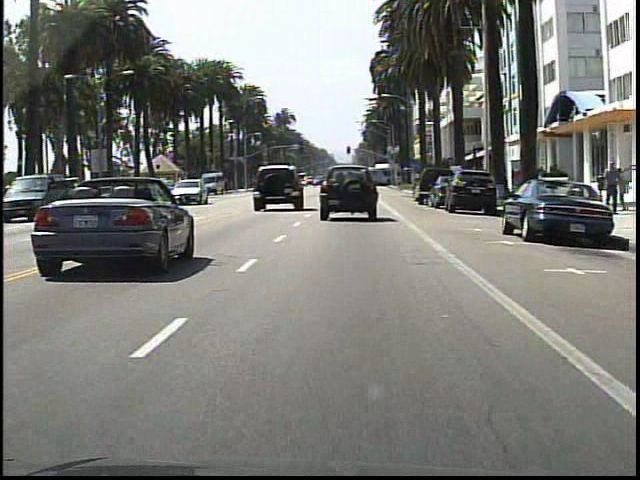person: (599, 157, 622, 215)
